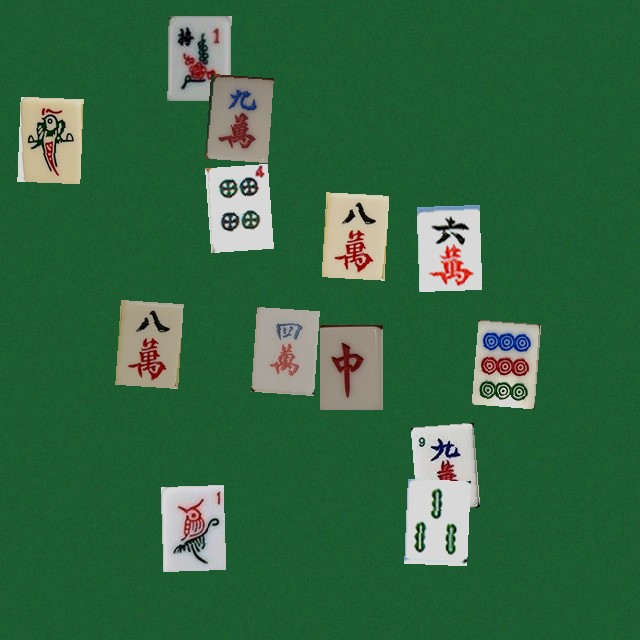tile: (321, 192, 384, 277), (115, 299, 178, 384), (17, 96, 80, 181), (416, 204, 479, 289), (167, 15, 230, 100), (471, 319, 534, 404), (319, 324, 382, 409), (410, 422, 473, 507), (160, 484, 223, 569), (404, 478, 467, 563), (205, 163, 268, 248), (205, 73, 268, 158), (251, 306, 314, 391)
